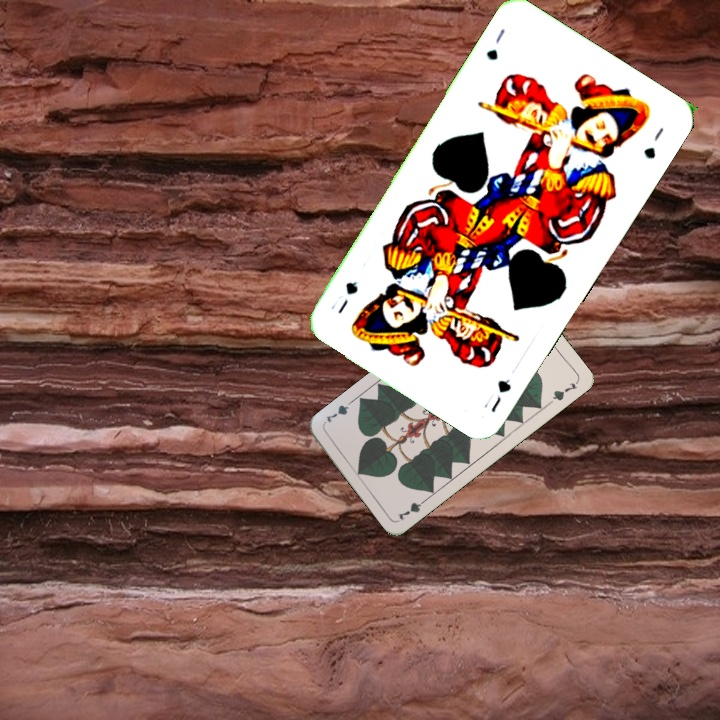G7: (393, 494, 431, 523)
GU: (486, 374, 514, 415), (482, 24, 508, 63)
